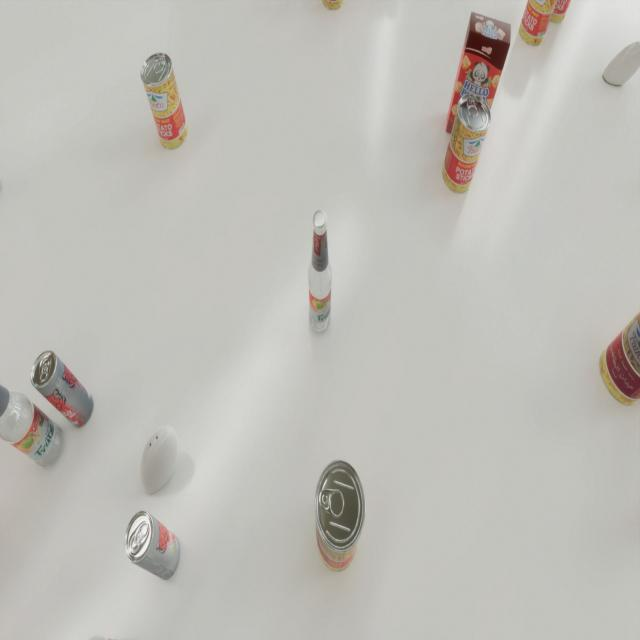Bottle: (307, 210, 333, 334)
HelloPanda: (446, 11, 511, 145)
Potato_sticks: (314, 459, 366, 572), (442, 94, 491, 194), (140, 52, 188, 150)
Rita_zero_sugar: (30, 350, 94, 428), (124, 510, 180, 580)
Salt: (139, 425, 179, 494), (603, 40, 640, 86)
